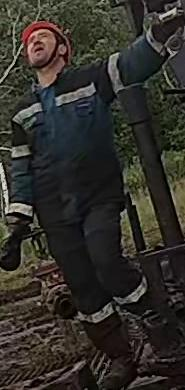gloves: (0, 212, 32, 271), (145, 16, 185, 56)
helmet: (19, 19, 72, 62)
vest: (12, 73, 120, 228)
